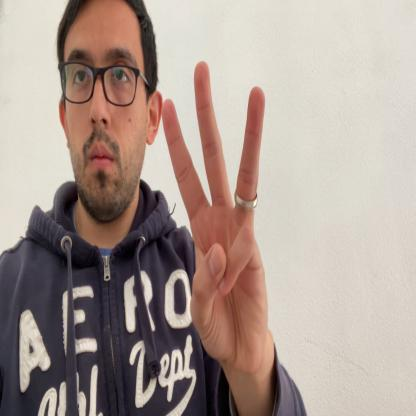W: (162, 58, 266, 378)
